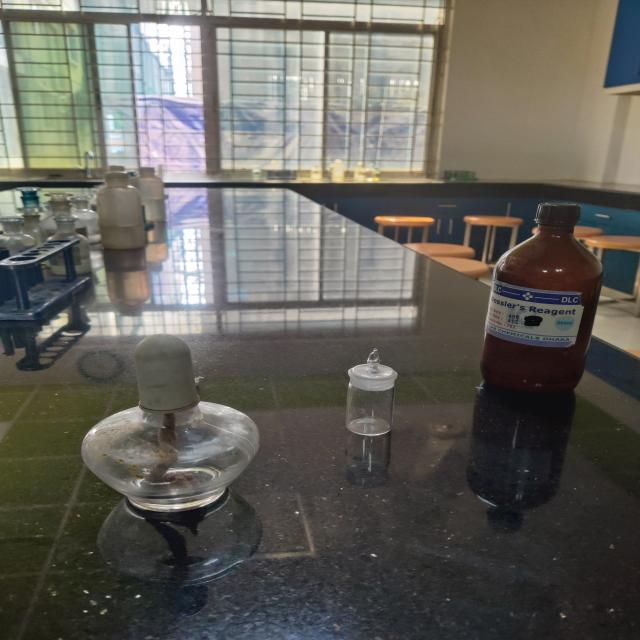Nessler_Reagent_Bottle: (476, 193, 614, 408)
Spirit_Lamp: (60, 327, 270, 518)
Weighing_Bottle: (328, 342, 420, 447)
